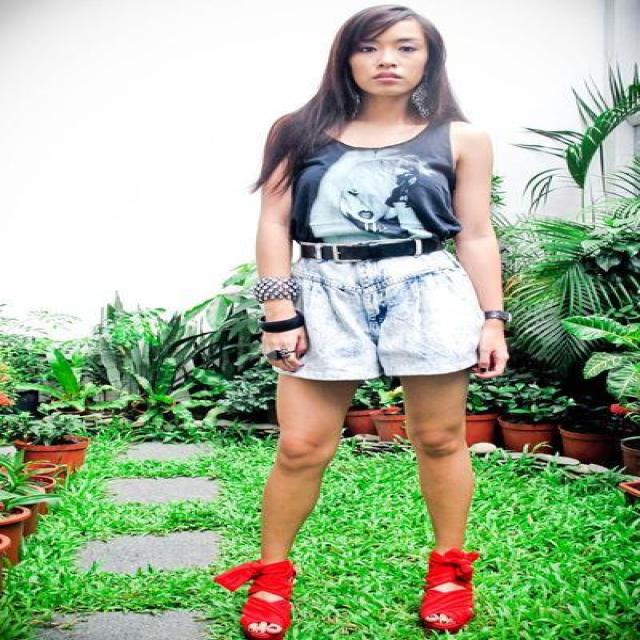shirt: (288, 126, 459, 263)
shoe: (240, 549, 480, 639)
skirt: (288, 251, 483, 386)
